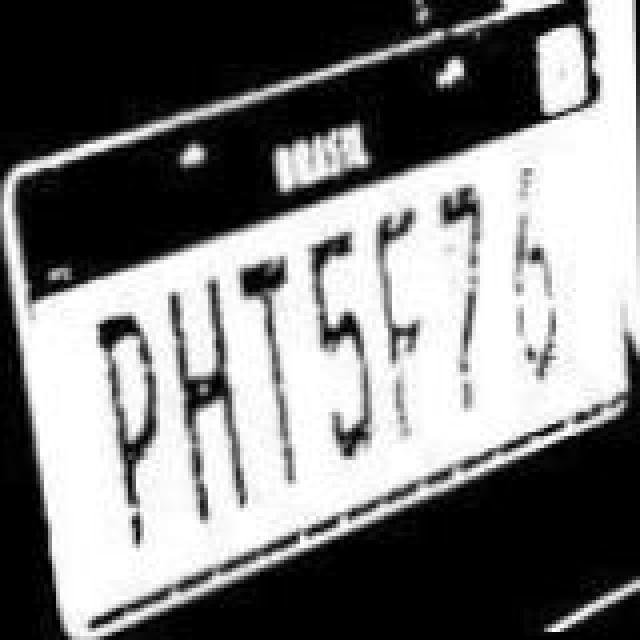5: (306, 206, 370, 478)
6: (496, 146, 564, 398)
7: (428, 168, 504, 432)
F: (372, 186, 432, 462)
H: (158, 258, 250, 542)
P: (92, 298, 164, 574)
T: (234, 236, 298, 512)
